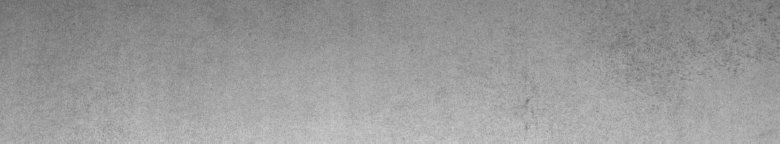ib: (684, 12, 771, 72)
